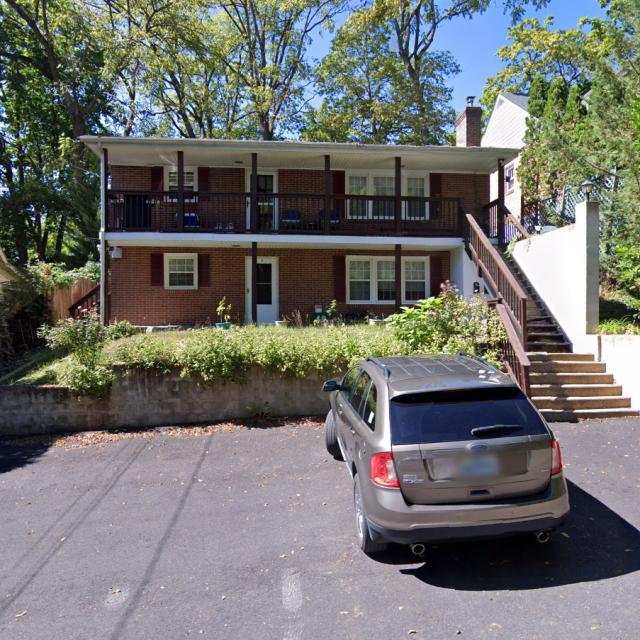House: (67, 96, 640, 415)
